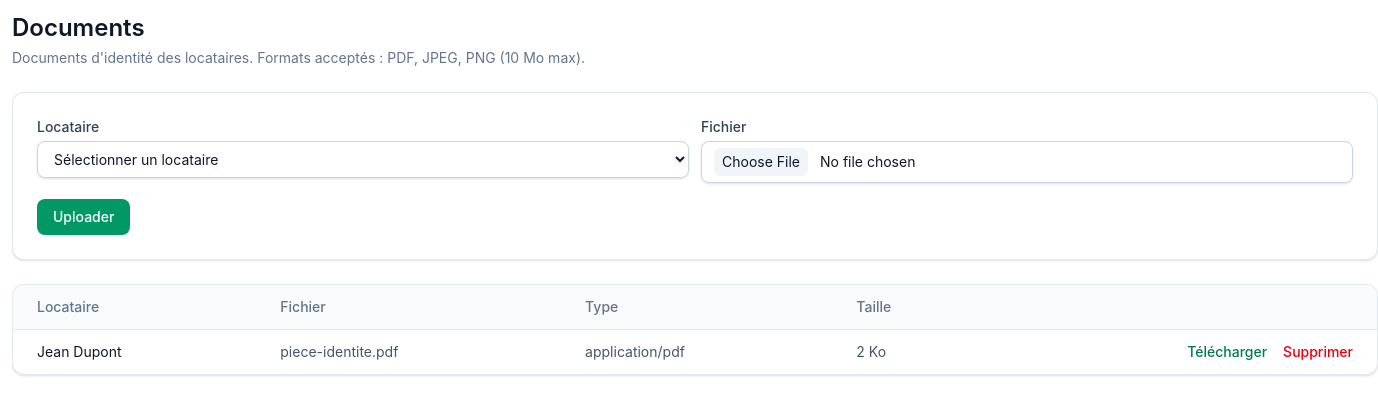
DocumentsPage › supprime un document et rafraîchit la liste
This screenshot has width=1378, height=393.
Check: the text "piece-identite.pdf" is shown, box [256,330,561,374]
What coordinates should you click on to do the following:
click the button "Supprimer"
I would click on:
 (1318, 352)
Its box is [1283,342,1353,362].
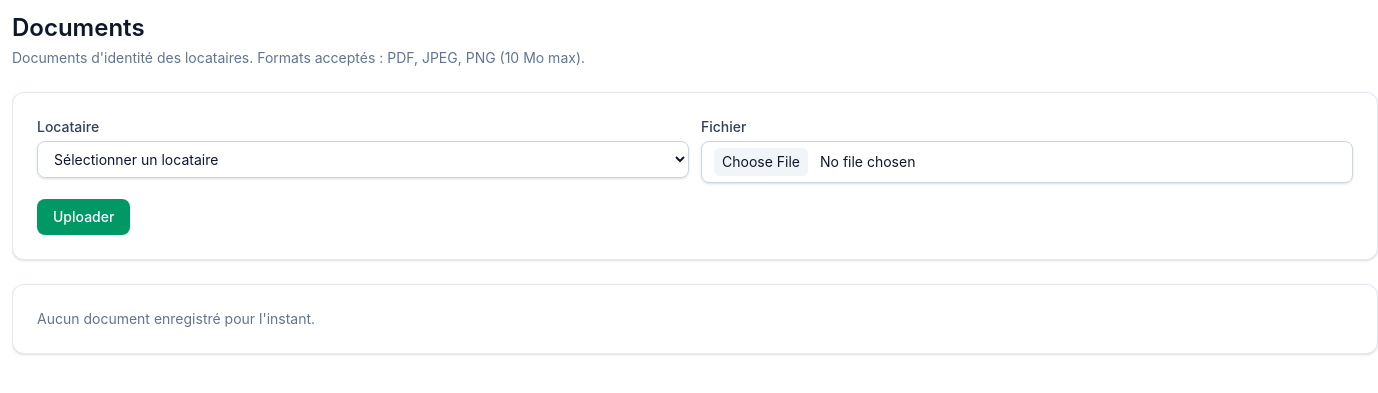
Check: the text "Aucun document enregistré pour l'instant." is shown, box [37,310,315,327]
